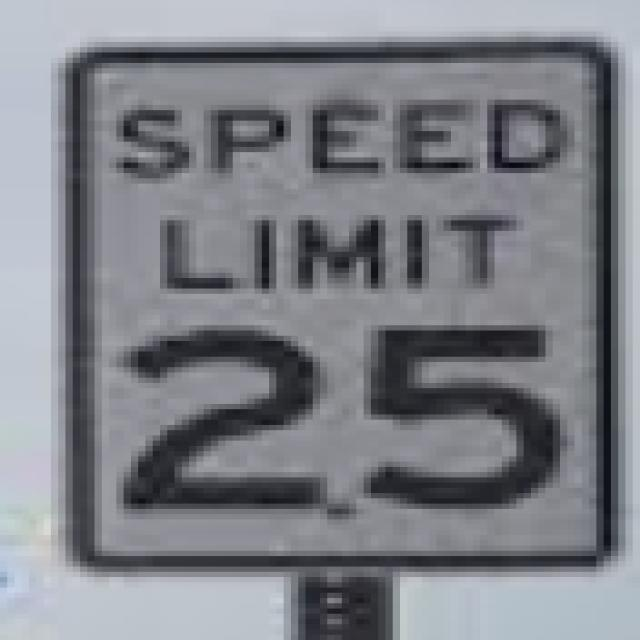speedLimit25: (72, 38, 609, 560)
